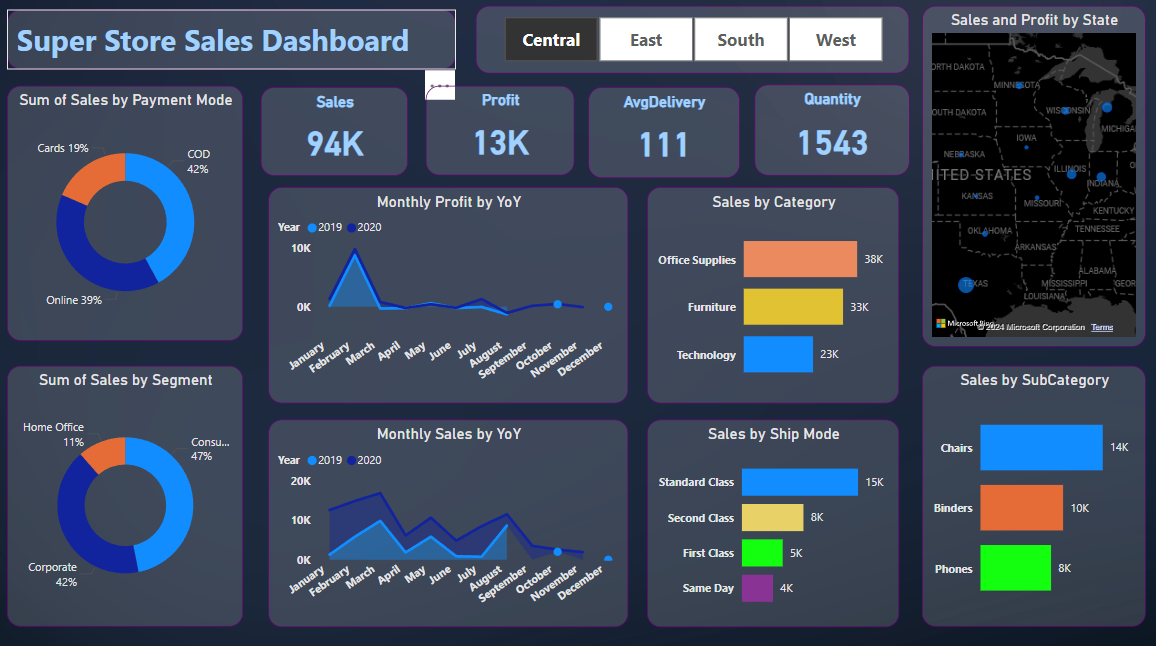

This screenshot's page, from the dashboard's own definition file:
{"tool":"powerbi","page":{"name":"Page 1","canvas":[1280,720],"ordinal":0},"visuals":[{"type":"clusteredBarChart","title":" Sales by Category","fields":{"Category":["SuperStore_Sales_Dataset.Category"],"Y":["Sum(SuperStore_Sales_Dataset.Sales)"]},"box":[719,214.1,277.2,237.4],"z":0},{"type":"clusteredBarChart","title":" Sales by SubCategory","fields":{"Category":["SuperStore_Sales_Dataset.Sub-Category"],"Y":["Sum(SuperStore_Sales_Dataset.Sales)"]},"box":[1020.9,410.3,245.6,286.8],"z":1000},{"type":"clusteredBarChart","title":" Sales by Ship Mode","fields":{"Y":["Sum(SuperStore_Sales_Dataset.Sales)"],"Category":["SuperStore_Sales_Dataset.Ship Mode"]},"box":[719,469.3,277.2,227.8],"z":2000},{"type":"stackedAreaChart","title":"Monthly Sales by YoY","fields":{"Category":["SuperStore_Sales_Dataset.Order Date.Variation.Date Hierarchy.Month","SuperStore_Sales_Dataset.Order Date.Variation.Date Hierarchy.Day"],"Y":["Sum(SuperStore_Sales_Dataset.Sales)"],"Series":["SuperStore_Sales_Dataset.Order Date.Variation.Date Hierarchy.Year"]},"box":[303.3,469.3,395.2,227.8],"z":3000},{"type":"stackedAreaChart","title":"Monthly Profit by YoY","fields":{"Category":["SuperStore_Sales_Dataset.Order Date.Variation.Date Hierarchy.Month","SuperStore_Sales_Dataset.Order Date.Variation.Date Hierarchy.Day"],"Series":["SuperStore_Sales_Dataset.Order Date.Variation.Date Hierarchy.Year"],"Y":["Sum(SuperStore_Sales_Dataset.Profit)"]},"box":[303.3,214.1,395.2,237.4],"z":4000},{"type":"donutChart","fields":{"Category":["SuperStore_Sales_Dataset.Segment"],"Y":["Sum(SuperStore_Sales_Dataset.Sales)"]},"box":[16.5,410.3,259.3,286.8],"z":5000},{"type":"donutChart","fields":{"Y":["Sum(SuperStore_Sales_Dataset.Sales)"],"Category":["SuperStore_Sales_Dataset.Payment Mode"]},"box":[16.5,102.9,259.3,279.9],"z":6000},{"type":"map","title":" Sales and Profit by State","fields":{"Size":["Sum(SuperStore_Sales_Dataset.Sales)"],"Category":["SuperStore_Sales_Dataset.State"]},"box":[1020.9,15.1,245.6,374.6],"z":7000},{"type":"slicer","fields":{"Values":["SuperStore_Sales_Dataset.Region"]},"box":[531,15.1,476.2,74.1],"z":8000},{"type":"textbox","box":[16.5,19.2,492.6,65.9],"z":9000},{"type":"card","title":"Sales","fields":{"Values":["Sum(SuperStore_Sales_Dataset.Sales)"]},"box":[295,104.3,161.9,97.4],"z":10000},{"type":"card","title":"Quantity","fields":{"Values":["Sum(SuperStore_Sales_Dataset.Quantity)"]},"box":[837.1,101.5,170.2,100.2],"z":11000},{"type":"card","title":"Profit","fields":{"Values":["Sum(SuperStore_Sales_Dataset.Profit)"]},"box":[476.2,102.9,163.3,98.8],"z":12000},{"type":"card","title":"AvgDelivery","fields":{"Values":["Avg(SuperStore_Sales_Dataset.AvgDelivery)"]},"box":[654.5,104.3,166,100.2],"z":13000}]}

Visuals, with their boxes in screenshot pixels (x1, y1, x2, y2), scaled from the page's 1280x720 canvas onto the 1156x646 screenshot:
" Sales by Category" clusteredBarChart: (x1=649, y1=192, x2=900, y2=405)
" Sales by SubCategory" clusteredBarChart: (x1=922, y1=368, x2=1144, y2=625)
" Sales by Ship Mode" clusteredBarChart: (x1=649, y1=421, x2=900, y2=625)
"Monthly Sales by YoY" stackedAreaChart: (x1=274, y1=421, x2=631, y2=625)
"Monthly Profit by YoY" stackedAreaChart: (x1=274, y1=192, x2=631, y2=405)
donutChart - SuperStore_Sales_Dataset.Segment x Sum(SuperStore_Sales_Dataset.Sales): (x1=15, y1=368, x2=249, y2=625)
donutChart - Sum(SuperStore_Sales_Dataset.Sales) x SuperStore_Sales_Dataset.Payment Mode: (x1=15, y1=92, x2=249, y2=343)
" Sales and Profit by State" map: (x1=922, y1=14, x2=1144, y2=350)
slicer - SuperStore_Sales_Dataset.Region: (x1=480, y1=14, x2=910, y2=80)
textbox: (x1=15, y1=17, x2=460, y2=76)
"Sales" card: (x1=266, y1=94, x2=413, y2=181)
"Quantity" card: (x1=756, y1=91, x2=910, y2=181)
"Profit" card: (x1=430, y1=92, x2=578, y2=181)
"AvgDelivery" card: (x1=591, y1=94, x2=741, y2=183)
